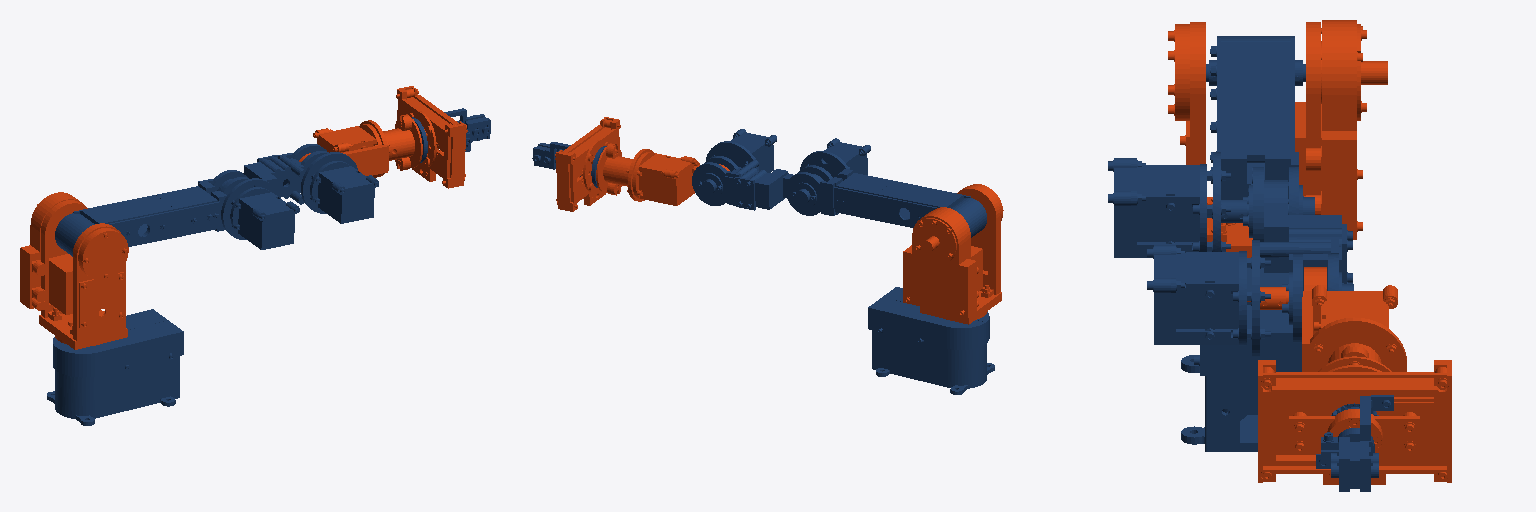
URDF robot description (compact_five_axis_arm):
<?xml version="1.0" ?>
<!-- =================================================================================== -->
<!-- |    This document was autogenerated by xacro from outputs\Robotic Arm\Arm With Gripper - ROS2\ros2_ws\src\robotic_arm_description\urdf\robot.urdf.xacro | -->
<!-- |    EDITING THIS FILE BY HAND IS NOT RECOMMENDED                                 | -->
<!-- =================================================================================== -->
<!-- START HERE: this short file assembles the smaller files below. -->
<!-- Read HOW_TO_READ_THE_ROBOT.md first. RViz launch expands this file automatically. -->
<robot name="compact_five_axis_arm">
  <!-- Stationary base and bench reference. Distances in meters; angles in radians. -->
  <!-- world: reference frame only; it has no visible shape. -->
  <link name="world"/>
  <!-- base_link: a rigid assembly of parts. The mesh supplies its shape; visual is appearance, collision is contact geometry. -->
  <link name="base_link">
    <visual>
      <geometry>
        <mesh filename="package://robotic_arm_description/meshes/base_link.stl"/>
      </geometry>
      <material name="base_link_color">
        <color rgba="0.18 0.30 0.46 1"/>
      </material>
    </visual>
    <collision>
      <geometry>
        <mesh filename="package://robotic_arm_description/meshes/base_link.stl"/>
      </geometry>
    </collision>
  </link>
  <!-- world_to_base: connects world to base_link. Origin locates the joint in the parent frame. -->
  <joint name="world_to_base" type="fixed">
    <parent link="world"/>
    <child link="base_link"/>
    <origin rpy="0 0 0" xyz="0 0 0"/>
  </joint>
  <!-- J1: rotate the whole arm around the vertical base axis. Distances in meters; angles in radians. -->
  <!-- shoulder_link: a rigid assembly of parts. The mesh supplies its shape; visual is appearance, collision is contact geometry. -->
  <link name="shoulder_link">
    <visual>
      <geometry>
        <mesh filename="package://robotic_arm_description/meshes/shoulder_link.stl"/>
      </geometry>
      <material name="shoulder_link_color">
        <color rgba="0.85 0.32 0.12 1"/>
      </material>
    </visual>
    <collision>
      <geometry>
        <mesh filename="package://robotic_arm_description/meshes/shoulder_link.stl"/>
      </geometry>
    </collision>
  </link>
  <!-- j1: connects base_link to shoulder_link. Origin locates the joint in the parent frame. Axis gives the movement direction in the joint frame. Range: -160.0 to 160.0 degrees. -->
  <joint name="j1" type="revolute">
    <parent link="base_link"/>
    <child link="shoulder_link"/>
    <origin rpy="0 0 0" xyz="0 0 0"/>
    <axis xyz="0 0 1"/>
    <limit effort="0" lower="-2.792526803190927" upper="2.792526803190927" velocity="0.5235987755982988"/>
  </joint>
  <!-- J2: lift the upper arm about the shoulder axis. Distances in meters; angles in radians. -->
  <!-- upper_arm_link: a rigid assembly of parts. The mesh supplies its shape; visual is appearance, collision is contact geometry. -->
  <link name="upper_arm_link">
    <visual>
      <geometry>
        <mesh filename="package://robotic_arm_description/meshes/upper_arm_link.stl"/>
      </geometry>
      <material name="upper_arm_link_color">
        <color rgba="0.18 0.30 0.46 1"/>
      </material>
    </visual>
    <collision>
      <geometry>
        <mesh filename="package://robotic_arm_description/meshes/upper_arm_link.stl"/>
      </geometry>
    </collision>
  </link>
  <!-- j2: connects shoulder_link to upper_arm_link. Origin locates the joint in the parent frame. Axis gives the movement direction in the joint frame. Range: -30.0 to 90.0 degrees. -->
  <joint name="j2" type="revolute">
    <parent link="shoulder_link"/>
    <child link="upper_arm_link"/>
    <origin rpy="0 0 0" xyz="0 0 0.257468465415"/>
    <axis xyz="0 -1 0"/>
    <limit effort="0" lower="-0.5235987755982988" upper="1.5707963267948966" velocity="0.5235987755982988"/>
  </joint>
  <!-- J3: bend the forearm at the elbow. Distances in meters; angles in radians. -->
  <!-- forearm_link: a rigid assembly of parts. The mesh supplies its shape; visual is appearance, collision is contact geometry. -->
  <link name="forearm_link">
    <visual>
      <geometry>
        <mesh filename="package://robotic_arm_description/meshes/forearm_link.stl"/>
      </geometry>
      <material name="forearm_link_color">
        <color rgba="0.18 0.30 0.46 1"/>
      </material>
    </visual>
    <collision>
      <geometry>
        <mesh filename="package://robotic_arm_description/meshes/forearm_link.stl"/>
      </geometry>
    </collision>
  </link>
  <!-- j3: connects upper_arm_link to forearm_link. Origin locates the joint in the parent frame. Axis gives the movement direction in the joint frame. Range: -115.0 to 115.0 degrees. -->
  <joint name="j3" type="revolute">
    <parent link="upper_arm_link"/>
    <child link="forearm_link"/>
    <origin rpy="0 0 0" xyz="0.25 0 0"/>
    <axis xyz="0 -1 0"/>
    <limit effort="0" lower="-2.007128639793479" upper="2.007128639793479" velocity="0.5235987755982988"/>
  </joint>
  <!-- J4: bend the wrist. Distances in meters; angles in radians. -->
  <!-- wrist_link: a rigid assembly of parts. The mesh supplies its shape; visual is appearance, collision is contact geometry. -->
  <link name="wrist_link">
    <visual>
      <geometry>
        <mesh filename="package://robotic_arm_description/meshes/wrist_link.stl"/>
      </geometry>
      <material name="wrist_link_color">
        <color rgba="0.85 0.32 0.12 1"/>
      </material>
    </visual>
    <collision>
      <geometry>
        <mesh filename="package://robotic_arm_description/meshes/wrist_link.stl"/>
      </geometry>
    </collision>
  </link>
  <!-- j4: connects forearm_link to wrist_link. Origin locates the joint in the parent frame. Axis gives the movement direction in the joint frame. Range: -90.0 to 90.0 degrees. -->
  <joint name="j4" type="revolute">
    <parent link="forearm_link"/>
    <child link="wrist_link"/>
    <origin rpy="0 0 0" xyz="0.144883953563 0.03 -0.0058"/>
    <axis xyz="0 -1 0"/>
    <limit effort="0" lower="-1.5707963267948966" upper="1.5707963267948966" velocity="0.5235987755982988"/>
  </joint>
  <!-- J5: rotate the tool, then locate its mounting face. Distances in meters; angles in radians. -->
  <!-- tool_link: a rigid assembly of parts. The mesh supplies its shape; visual is appearance, collision is contact geometry. -->
  <link name="tool_link">
    <visual>
      <geometry>
        <mesh filename="package://robotic_arm_description/meshes/tool_link.stl"/>
      </geometry>
      <material name="tool_link_color">
        <color rgba="0.18 0.30 0.46 1"/>
      </material>
    </visual>
    <collision>
      <geometry>
        <mesh filename="package://robotic_arm_description/meshes/tool_link.stl"/>
      </geometry>
    </collision>
  </link>
  <!-- tool_flange: reference frame only; it has no visible shape. -->
  <link name="tool_flange"/>
  <!-- j5: connects wrist_link to tool_link. Origin locates the joint in the parent frame. Axis gives the movement direction in the joint frame. Range: -160.0 to 160.0 degrees. -->
  <joint name="j5" type="revolute">
    <parent link="wrist_link"/>
    <child link="tool_link"/>
    <origin rpy="0 0 0" xyz="0.145883153243 0.0455 -0.00584"/>
    <axis xyz="-0.999199679744 0 0.04"/>
    <limit effort="0" lower="-2.792526803190927" upper="2.792526803190927" velocity="0.5235987755982988"/>
  </joint>
  <!-- tool_flange_fixed: connects tool_link to tool_flange. Origin locates the joint in the parent frame. -->
  <joint name="tool_flange_fixed" type="fixed">
    <parent link="tool_link"/>
    <child link="tool_flange"/>
    <origin rpy="-1.61080700115 0 -1.57079632679" xyz="0.0359711884708 0 -0.00144"/>
  </joint>
  <!-- Fixed gripper frame and gripping reference point. Distances in meters; angles in radians. -->
  <!-- gripper_base: a rigid assembly of parts. The mesh supplies its shape; visual is appearance, collision is contact geometry. -->
  <link name="gripper_base">
    <visual>
      <geometry>
        <mesh filename="package://robotic_arm_description/meshes/gripper_base.stl"/>
      </geometry>
      <material name="gripper_base_color">
        <color rgba="0.85 0.32 0.12 1"/>
      </material>
    </visual>
    <collision>
      <geometry>
        <mesh filename="package://robotic_arm_description/meshes/gripper_base.stl"/>
      </geometry>
    </collision>
  </link>
  <!-- grasp_tcp: reference frame only; it has no visible shape. -->
  <link name="grasp_tcp"/>
  <!-- gripper_mount_fixed: connects tool_flange to gripper_base. Origin locates the joint in the parent frame. -->
  <joint name="gripper_mount_fixed" type="fixed">
    <parent link="tool_flange"/>
    <child link="gripper_base"/>
    <origin rpy="0 0 0" xyz="0 0 0"/>
  </joint>
  <!-- grasp_tcp_fixed: connects gripper_base to grasp_tcp. Origin locates the joint in the parent frame. -->
  <joint name="grasp_tcp_fixed" type="fixed">
    <parent link="gripper_base"/>
    <child link="grasp_tcp"/>
    <origin rpy="0 0 0" xyz="0 0 0.096"/>
  </joint>
  <!-- Opposed fingers and linked pinion; no actuator is selected. Distances in meters; angles in radians. -->
  <!-- right_jaw: a rigid assembly of parts. The mesh supplies its shape; visual is appearance, collision is contact geometry. -->
  <link name="right_jaw">
    <visual>
      <geometry>
        <mesh filename="package://robotic_arm_description/meshes/right_jaw.stl"/>
      </geometry>
      <material name="right_jaw_color">
        <color rgba="0.18 0.30 0.46 1"/>
      </material>
    </visual>
    <collision>
      <geometry>
        <mesh filename="package://robotic_arm_description/meshes/right_jaw.stl"/>
      </geometry>
    </collision>
  </link>
  <!-- left_jaw: a rigid assembly of parts. The mesh supplies its shape; visual is appearance, collision is contact geometry. -->
  <link name="left_jaw">
    <visual>
      <geometry>
        <mesh filename="package://robotic_arm_description/meshes/left_jaw.stl"/>
      </geometry>
      <material name="left_jaw_color">
        <color rgba="0.18 0.30 0.46 1"/>
      </material>
    </visual>
    <collision>
      <geometry>
        <mesh filename="package://robotic_arm_description/meshes/left_jaw.stl"/>
      </geometry>
    </collision>
  </link>
  <!-- gripper_pinion: a rigid assembly of parts. The mesh supplies its shape; visual is appearance, collision is contact geometry. -->
  <link name="gripper_pinion">
    <visual>
      <geometry>
        <mesh filename="package://robotic_arm_description/meshes/gripper_pinion.stl"/>
      </geometry>
      <material name="gripper_pinion_color">
        <color rgba="0.18 0.30 0.46 1"/>
      </material>
    </visual>
    <collision>
      <geometry>
        <mesh filename="package://robotic_arm_description/meshes/gripper_pinion.stl"/>
      </geometry>
    </collision>
  </link>
  <!-- gripper_opening: connects gripper_base to right_jaw. Origin locates the joint in the parent frame. Axis gives the movement direction in the joint frame. Travel: 0 to 30 mm per finger; total opening is twice this value. -->
  <joint name="gripper_opening" type="prismatic">
    <parent link="gripper_base"/>
    <child link="right_jaw"/>
    <origin rpy="0 0 0" xyz="0 0 0"/>
    <axis xyz="1 0 0"/>
    <limit effort="0" lower="0" upper="0.03" velocity="0.02"/>
  </joint>
  <!-- left_jaw_mimic: connects gripper_base to left_jaw. Origin locates the joint in the parent frame. Axis gives the movement direction in the joint frame. Travel: 0 to 30 mm per finger; total opening is twice this value. Mimic makes this movement follow another joint automatically. -->
  <joint name="left_jaw_mimic" type="prismatic">
    <parent link="gripper_base"/>
    <child link="left_jaw"/>
    <origin rpy="0 0 0" xyz="0 0 0"/>
    <axis xyz="-1 0 0"/>
    <limit effort="0" lower="0" upper="0.03" velocity="0.02"/>
    <mimic joint="gripper_opening" multiplier="1" offset="0"/>
  </joint>
  <!-- gripper_pinion_mimic: connects gripper_base to gripper_pinion. Origin locates the joint in the parent frame. Axis gives the movement direction in the joint frame. Range: -95.5 to 0.0 degrees. Mimic makes this movement follow another joint automatically. -->
  <joint name="gripper_pinion_mimic" type="revolute">
    <parent link="gripper_base"/>
    <child link="gripper_pinion"/>
    <origin rpy="0 0 0" xyz="0 0 0"/>
    <axis xyz="0 0 1"/>
    <limit effort="0" lower="-1.6666666666666667" upper="0" velocity="0.5235987755982988"/>
    <mimic joint="gripper_opening" multiplier="-55.55555555555556" offset="0"/>
  </joint>
  <!-- Motor rotor visualization for the two belt drives. Distances in meters; angles in radians. -->
  <!-- base_motor_rotor: a rigid assembly of parts. The mesh supplies its shape; visual is appearance, collision is contact geometry. -->
  <link name="base_motor_rotor">
    <visual>
      <geometry>
        <mesh filename="package://robotic_arm_description/meshes/base_motor_rotor.stl"/>
      </geometry>
      <material name="base_motor_rotor_color">
        <color rgba="0.18 0.30 0.46 1"/>
      </material>
    </visual>
    <collision>
      <geometry>
        <mesh filename="package://robotic_arm_description/meshes/base_motor_rotor.stl"/>
      </geometry>
    </collision>
  </link>
  <!-- shoulder_motor_rotor: a rigid assembly of parts. The mesh supplies its shape; visual is appearance, collision is contact geometry. -->
  <link name="shoulder_motor_rotor">
    <visual>
      <geometry>
        <mesh filename="package://robotic_arm_description/meshes/shoulder_motor_rotor.stl"/>
      </geometry>
      <material name="shoulder_motor_rotor_color">
        <color rgba="0.18 0.30 0.46 1"/>
      </material>
    </visual>
    <collision>
      <geometry>
        <mesh filename="package://robotic_arm_description/meshes/shoulder_motor_rotor.stl"/>
      </geometry>
    </collision>
  </link>
  <!-- j1_motor_rotation: connects base_link to base_motor_rotor. Origin locates the joint in the parent frame. Axis gives the movement direction in the joint frame. Range: -687.5 to 687.5 degrees. Mimic makes this movement follow another joint automatically. -->
  <joint name="j1_motor_rotation" type="revolute">
    <parent link="base_link"/>
    <child link="base_motor_rotor"/>
    <origin rpy="0 0 0" xyz="0.0724684654151 0 0.072"/>
    <axis xyz="0 0 1"/>
    <limit effort="0" lower="-12" upper="12" velocity="0.5235987755982988"/>
    <mimic joint="j1" multiplier="4" offset="0"/>
  </joint>
  <!-- j2_motor_rotation: connects shoulder_link to shoulder_motor_rotor. Origin locates the joint in the parent frame. Axis gives the movement direction in the joint frame. Range: -687.5 to 687.5 degrees. Mimic makes this movement follow another joint automatically. -->
  <joint name="j2_motor_rotation" type="revolute">
    <parent link="shoulder_link"/>
    <child link="shoulder_motor_rotor"/>
    <origin rpy="0 0 0" xyz="0 0.051 0.185"/>
    <axis xyz="0 1 0"/>
    <limit effort="0" lower="-12" upper="12" velocity="0.5235987755982988"/>
    <mimic joint="j2" multiplier="-4" offset="0"/>
  </joint>
</robot>

--- Facts derived from the render (not from the file) ---
The picture shows the robot from 3 angles, left to right: view 1: azimuth 30°, elevation 25°; view 2: azimuth 150°, elevation 25°; view 3: azimuth 270°, elevation 25°; orthographic projection.
Model compact_five_axis_arm with 15 links and 14 joints (8 revolute, 2 prismatic, 4 fixed), rooted at world, posed all joints at 0.
Visible links, largest first — view 1: shoulder_link, upper_arm_link, base_link, forearm_link, wrist_link, gripper_base; view 2: shoulder_link, upper_arm_link, base_link, forearm_link, wrist_link, gripper_base, left_jaw; view 3: upper_arm_link, forearm_link, gripper_base, shoulder_link, base_link, wrist_link, left_jaw, right_jaw, gripper_pinion.
Boxes of the visible links, x1,y1,x2,y2 form: shoulder_link: (20, 192, 128, 349); upper_arm_link: (55, 170, 299, 256); base_link: (47, 309, 183, 425); forearm_link: (217, 144, 378, 223); wrist_link: (299, 114, 422, 177); gripper_base: (396, 86, 467, 188); shoulder_link: (903, 184, 1003, 324); upper_arm_link: (786, 138, 986, 237); base_link: (868, 287, 994, 394); forearm_link: (692, 129, 823, 210); wrist_link: (596, 143, 729, 205); gripper_base: (555, 117, 620, 211); left_jaw: (532, 142, 570, 169); upper_arm_link: (1108, 36, 1314, 257); forearm_link: (1147, 180, 1353, 356); gripper_base: (1258, 360, 1451, 484); shoulder_link: (1168, 20, 1387, 257); base_link: (1181, 268, 1301, 451); wrist_link: (1247, 267, 1406, 371); left_jaw: (1344, 395, 1393, 491); right_jaw: (1316, 437, 1354, 491); gripper_pinion: (1321, 403, 1378, 462).
Size in the robot's own frame: 0.7452 by 0.2623 by 0.3025 metres.
Meshes: 12 distinct files referenced, 12 mesh visuals loaded (12 binary STL).
